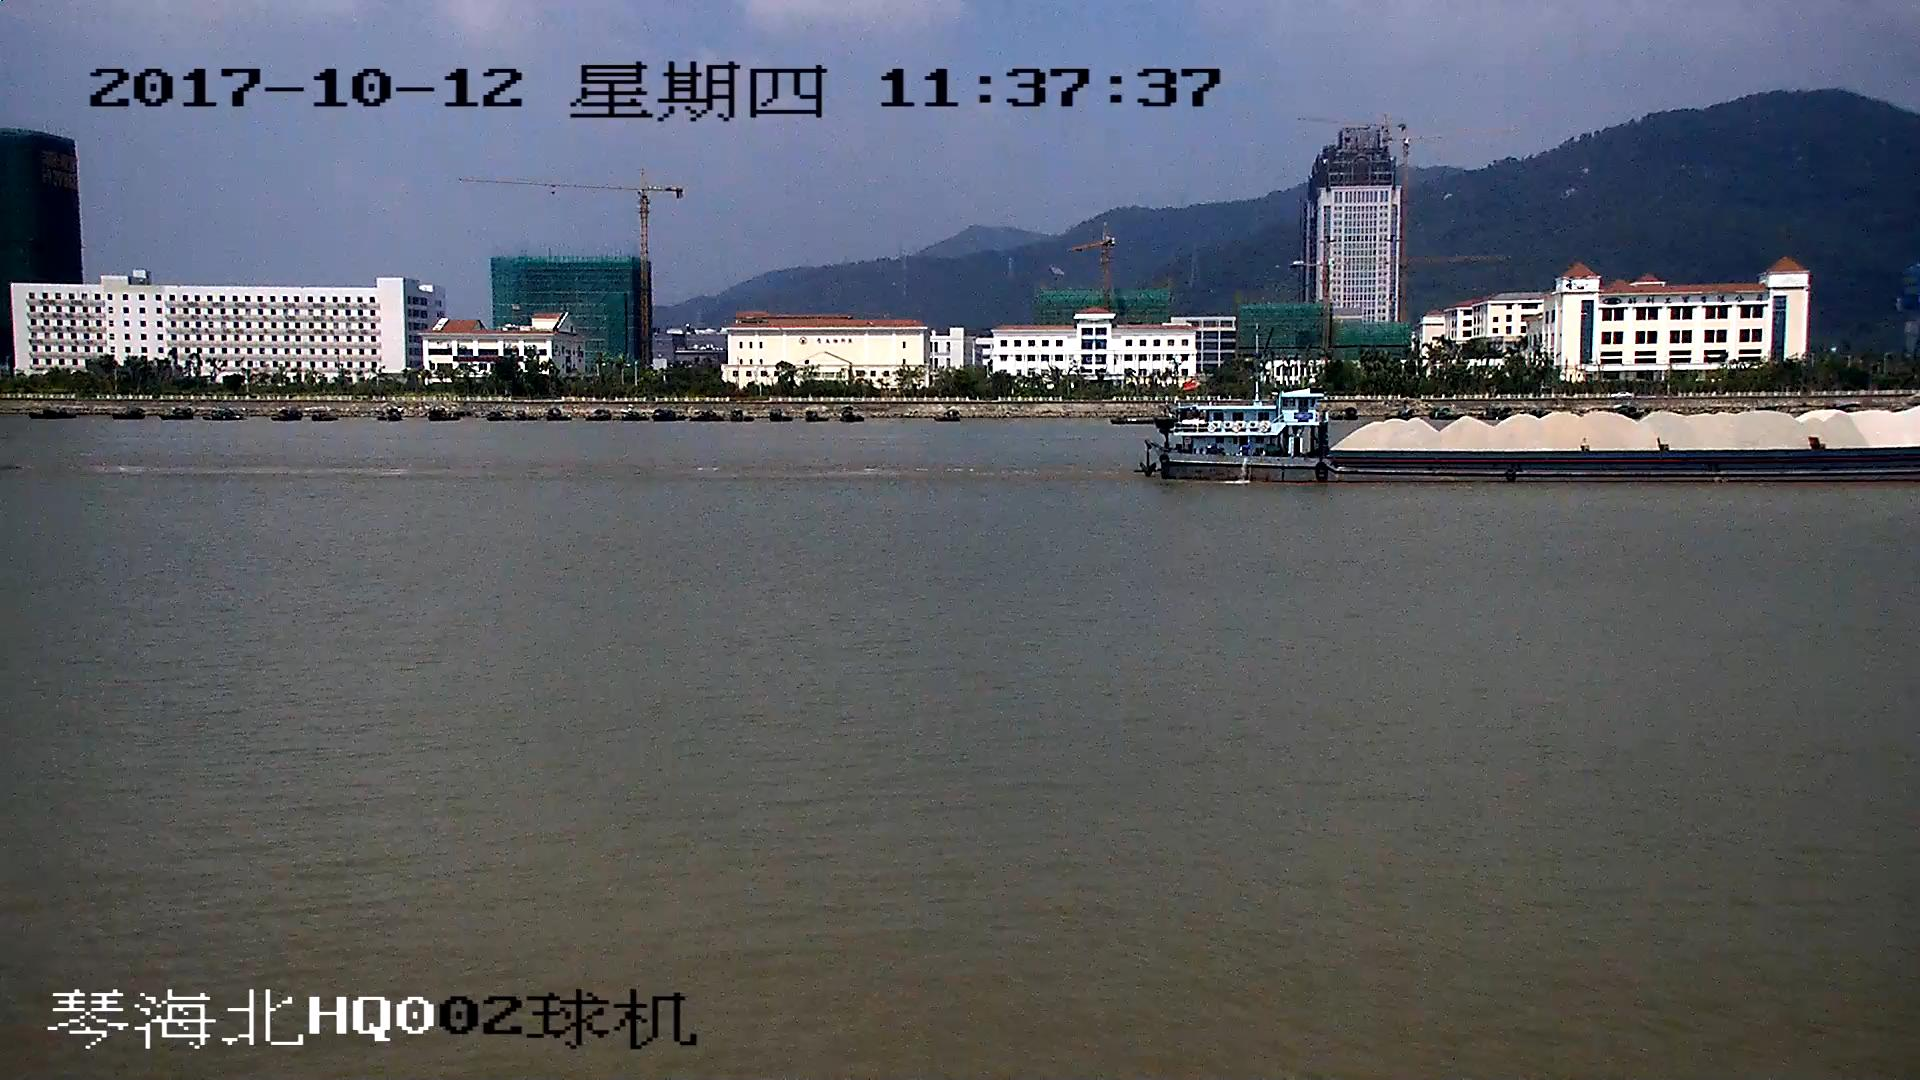ore carrier: (1138, 388, 1920, 480)
